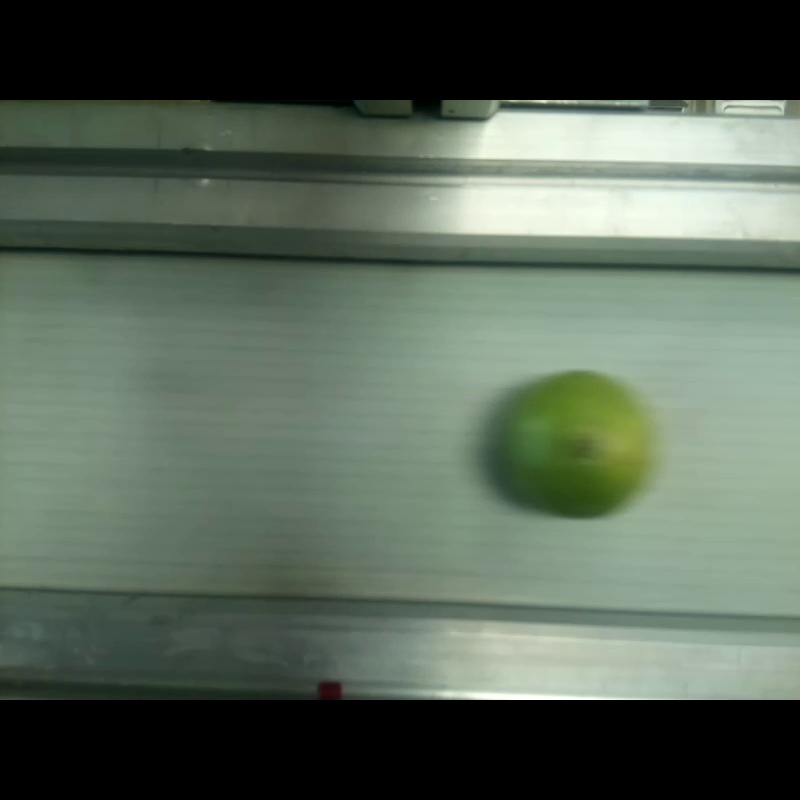lime: (502, 372, 651, 519)
